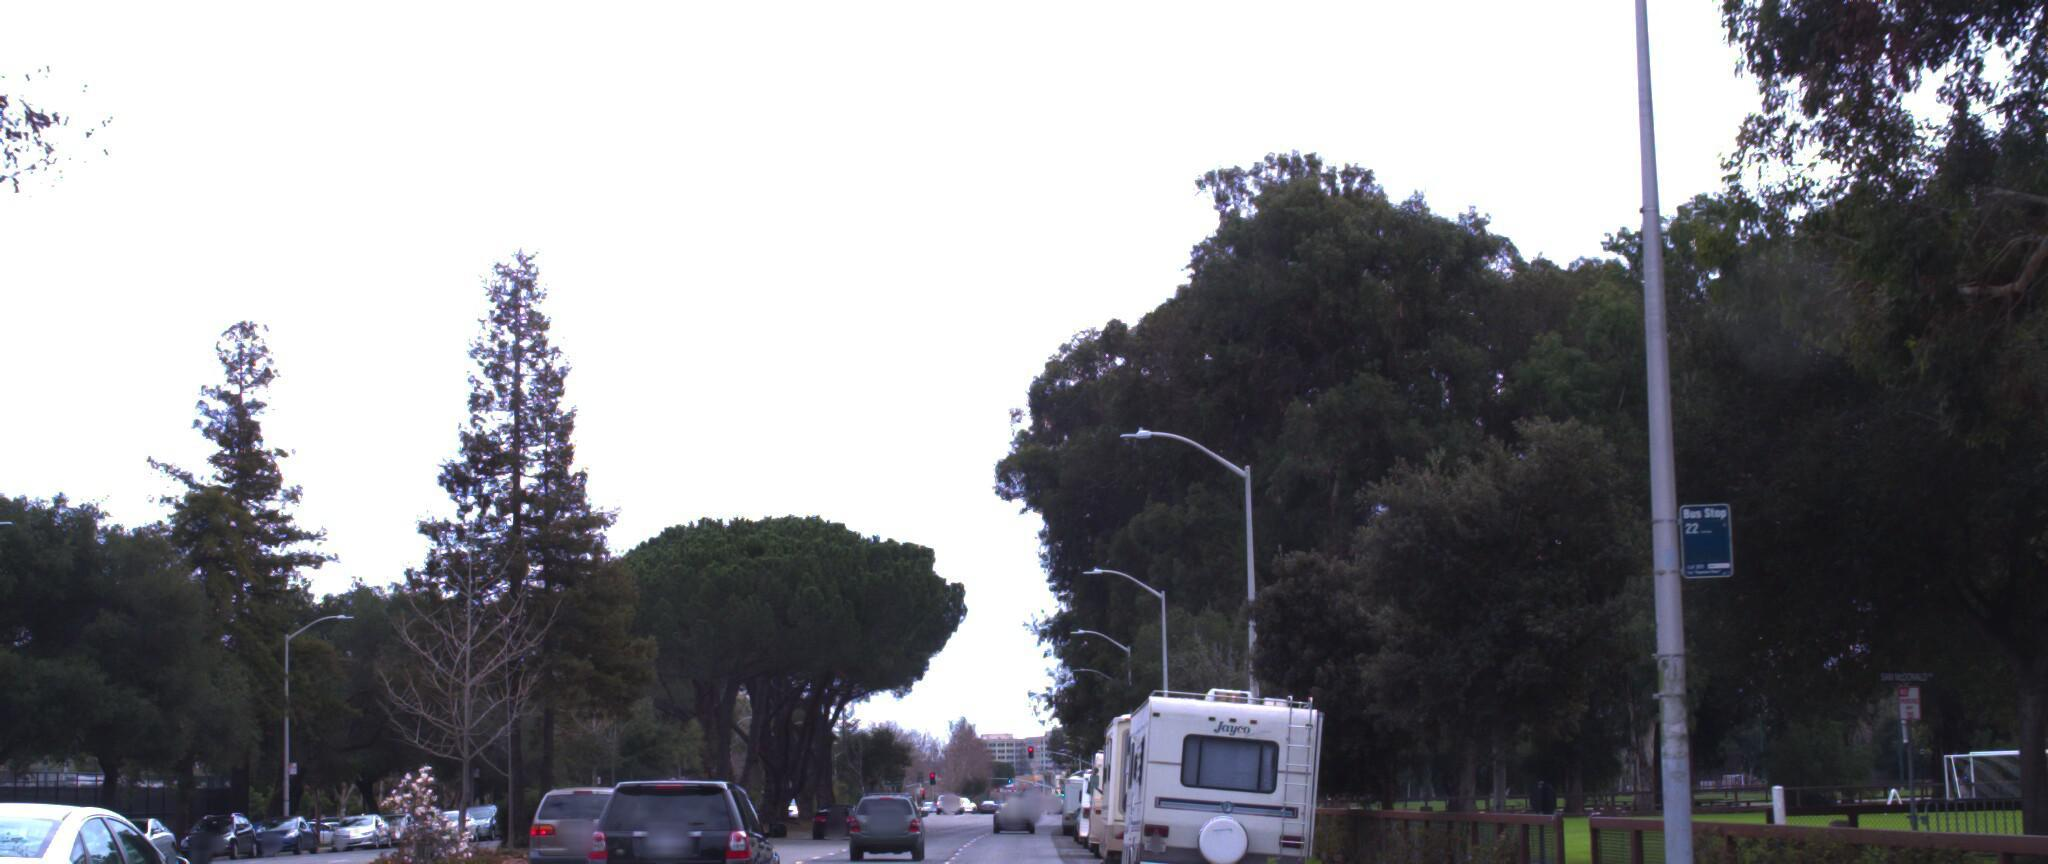car: (586, 754, 792, 864), (524, 754, 674, 864), (859, 767, 934, 837)
other_vehicle: (1102, 654, 1334, 864), (1085, 673, 1249, 864)
